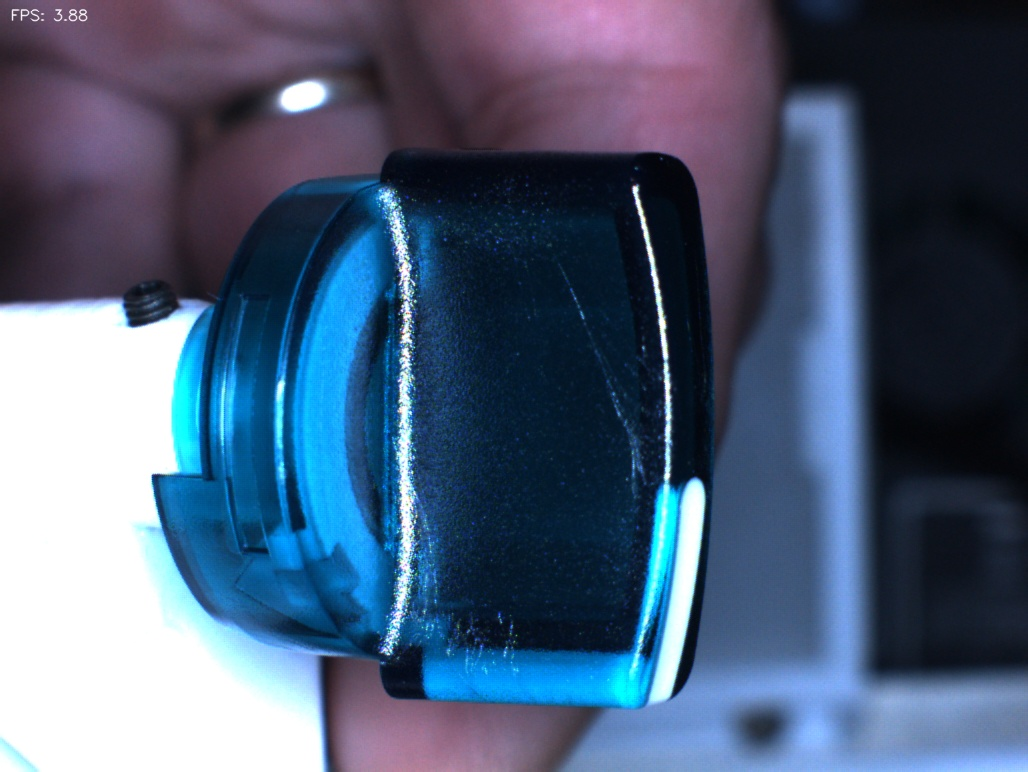Givrage: (563, 283, 660, 464)
